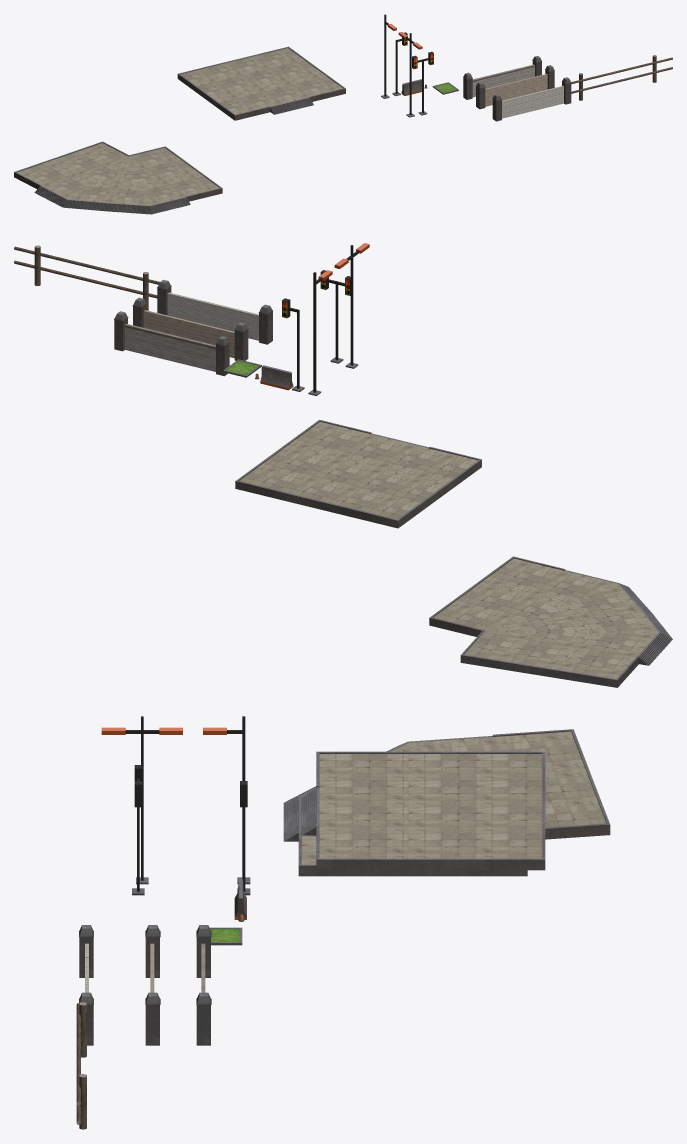
Rendered from propsss.fbx.
The picture shows the model from 3 angles, top to bottom: view 1: azimuth 30°, elevation 25°; view 2: azimuth 150°, elevation 25°; view 3: azimuth 270°, elevation 25°; orthographic projection. The views are drawn at different scales.
Parts seen in each view (by area): view 1: floor, floor-1, wall-3, wall-2, wall, wooden fence, street light001, street light, signal; view 2: floor, floor-1, wall, wall-3, wall-2, wooden fence, street light001; view 3: floor-1, floor, wall, wall-2, wooden fence, wall-3, street light001, signal, grass floor.
Part boxes in pixels (<box>): floor: <box>14,141,222,214</box>; floor-1: <box>177,46,345,120</box>; wall-3: <box>492,77,571,121</box>; wall-2: <box>476,65,554,109</box>; wall: <box>463,56,541,99</box>; wooden fence: <box>571,55,672,100</box>; street light001: <box>398,32,422,117</box>; street light: <box>381,14,396,98</box>; signal: <box>412,51,433,115</box>; floor: <box>429,556,672,687</box>; floor-1: <box>235,420,481,528</box>; wall: <box>114,311,229,376</box>; wall-3: <box>157,279,272,344</box>; wall-2: <box>132,297,248,360</box>; wooden fence: <box>14,245,159,310</box>; street light001: <box>334,243,369,368</box>; floor-1: <box>301,751,545,870</box>; floor: <box>283,729,610,876</box>; wall: <box>196,925,211,1045</box>; wall-2: <box>145,925,160,1045</box>; wooden fence: <box>76,1002,86,1129</box>; wall-3: <box>79,925,93,1045</box>; street light001: <box>101,716,182,884</box>; signal: <box>132,765,144,895</box>; grass floor: <box>210,927,242,945</box>.
Size of the model in its own units: 27.73 by 7.54 by 11.97.
